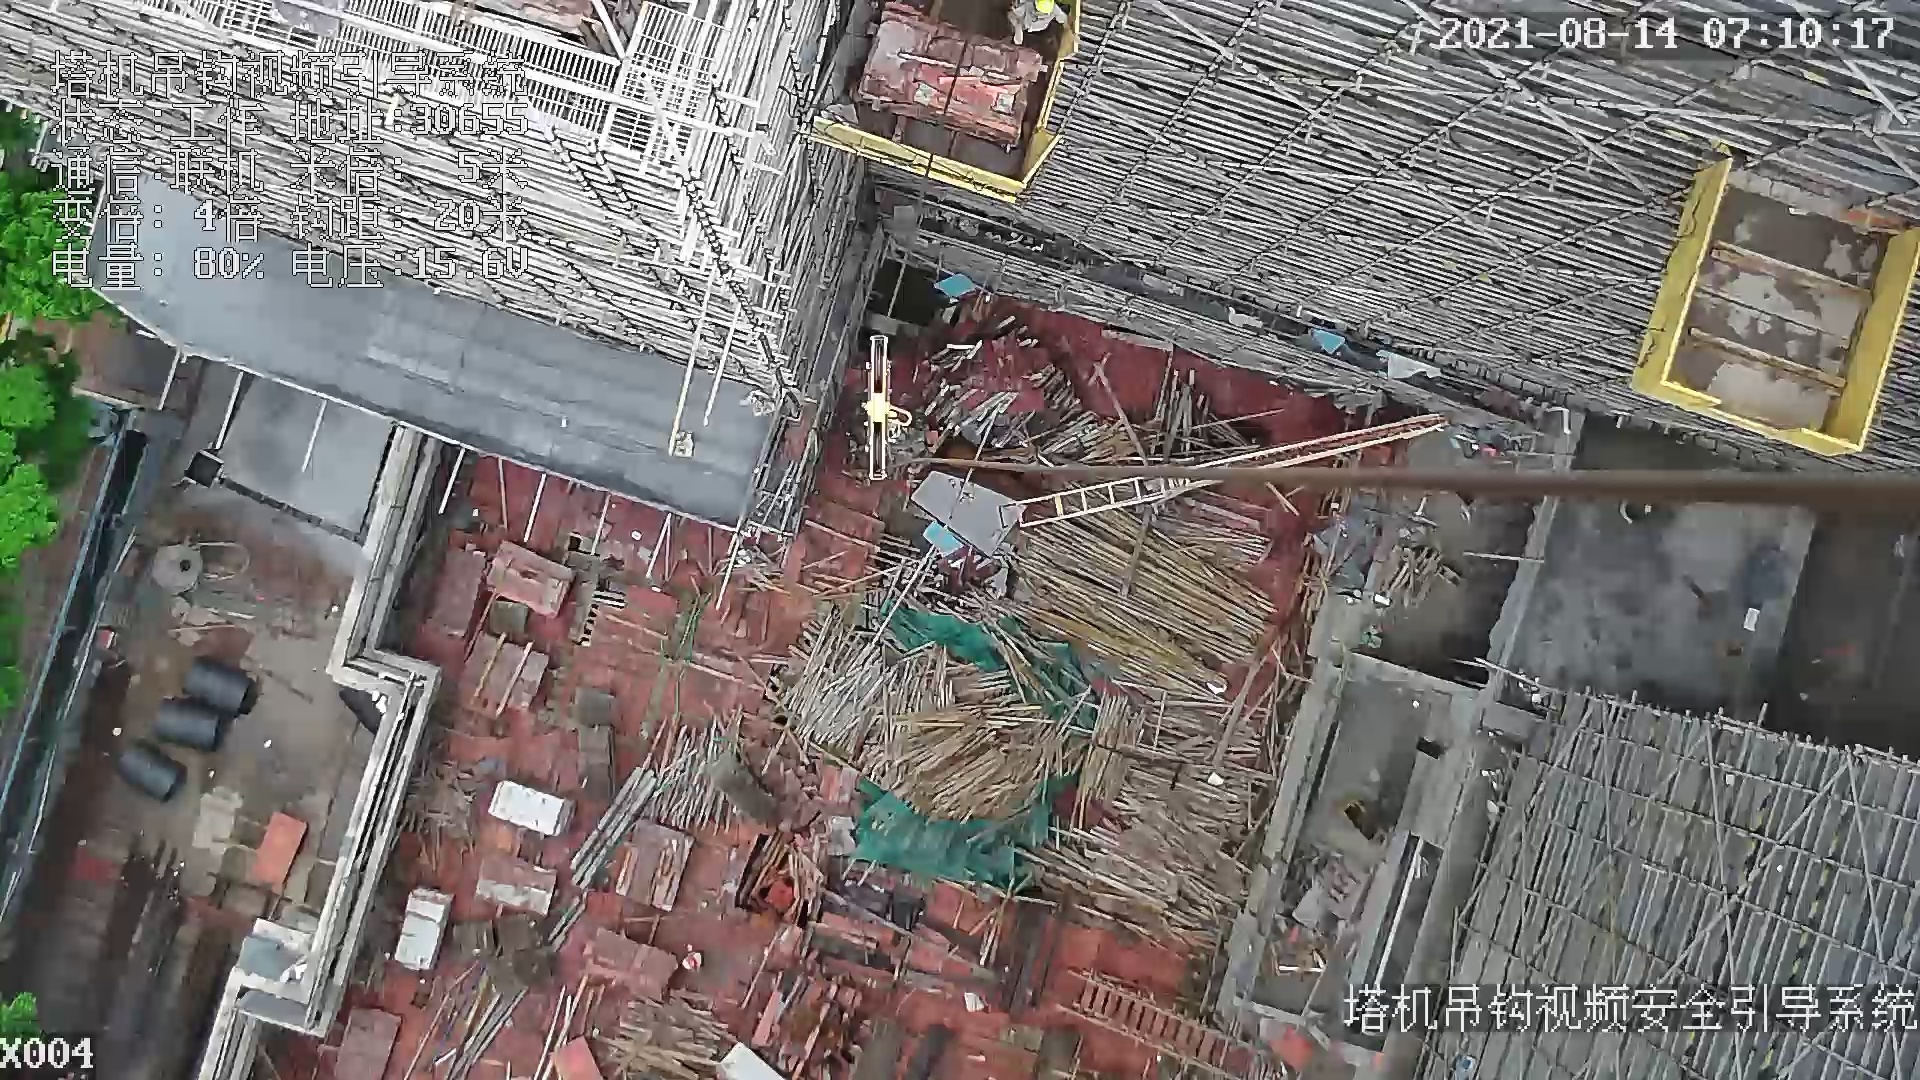helmet: (687, 955, 698, 971)
hook: (855, 331, 910, 485)
person: (999, 1, 1081, 48), (677, 947, 706, 974)
